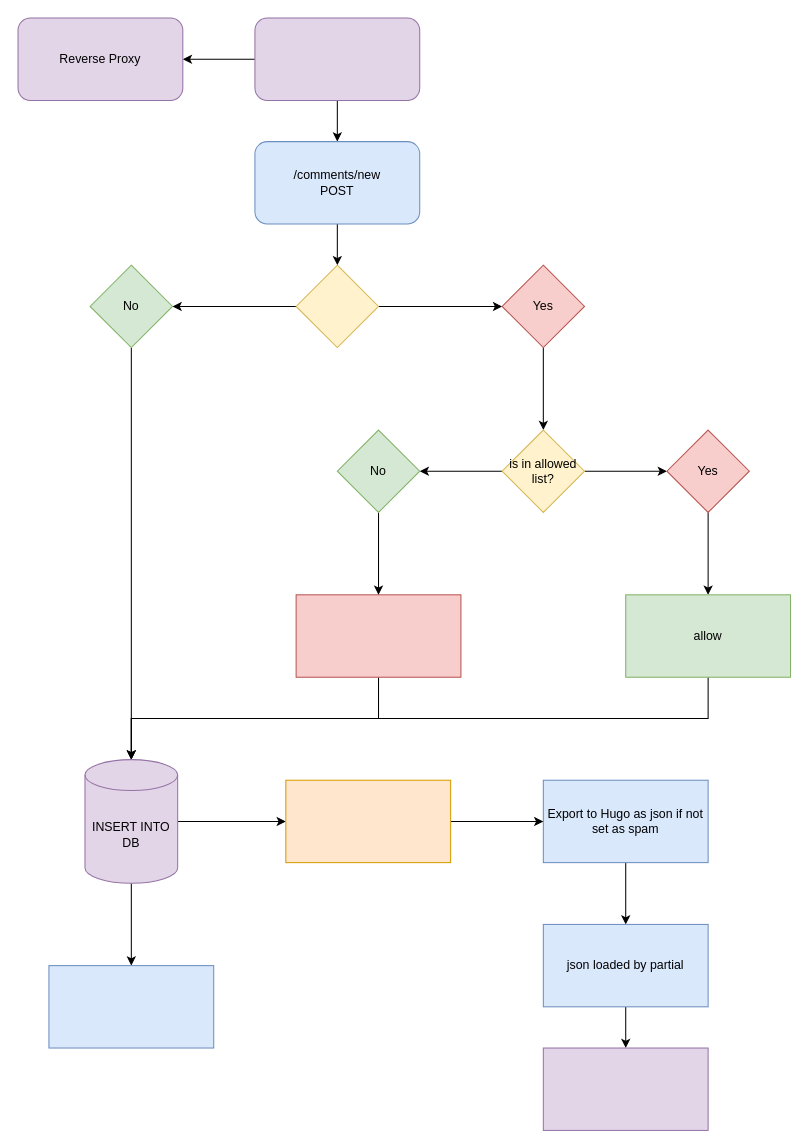
Some shapes in this 809 by 1148 pixel diagram are drawn without their labels. Here are the shapes that lost their labels. From the top down, the centre of each, then its label:
the point at 337,58: Flask Server
the point at 337,306: is spam?
the point at 378,635: set is_spam to true insert mail into blocklist
the point at 368,821: User confirms comment by mail
the point at 131,1006: Feed backend
the point at 625,1088: Build Website through CD/CI
